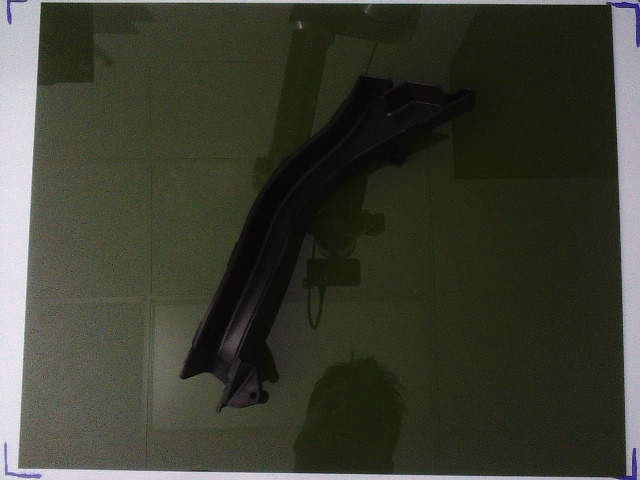887_A-Under: (179, 77, 476, 411)
